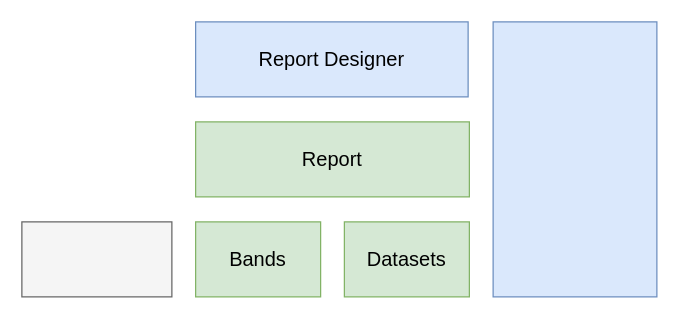
The diagram is 679 pixels wide and 319 high, and some of its shapes have lost their labels. The shapes that lost their labels are listed below. From the top down, each one's centre as x and y in pixels, then its label:
(574,159): Report Engine
(96,259): Report Template
